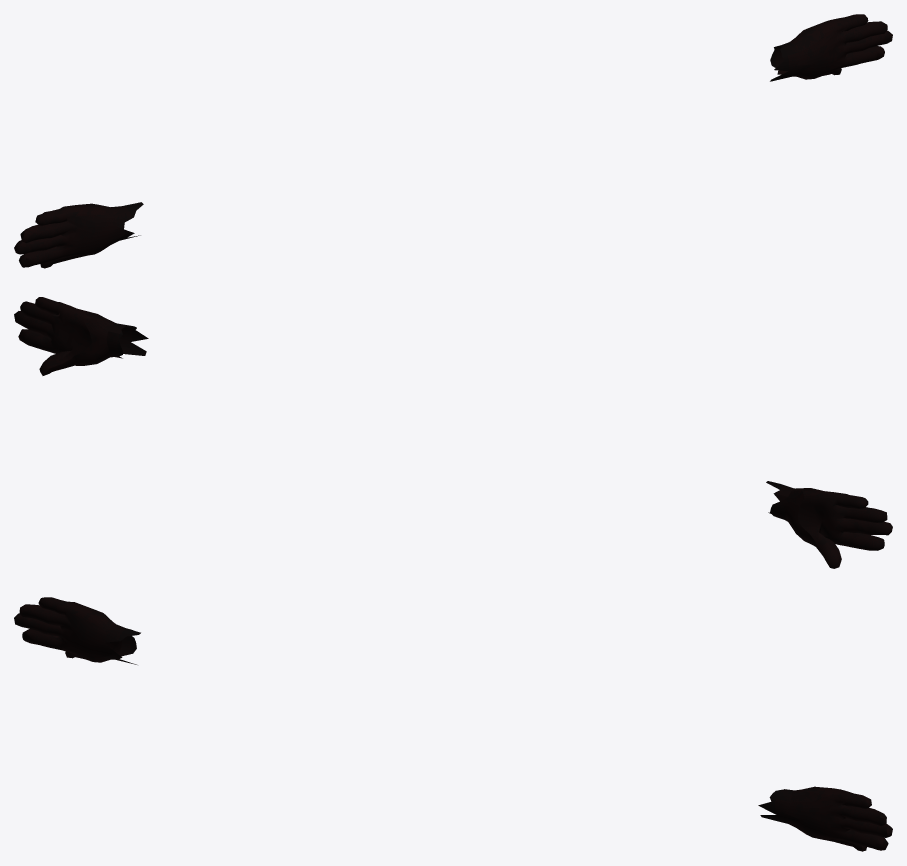
The model's file is work_gloves.glb.
3 views of the same model, one above another, from view 1: azimuth 30°, elevation 25°; view 2: azimuth 150°, elevation 25°; view 3: azimuth 330°, elevation 25° (orthographic).
Visible parts, largest first — view 1: work_gloves_ground; view 2: work_gloves_ground; view 3: work_gloves_ground.
Part boxes in pixels (box(x1,y1,x2,y2)): work_gloves_ground: box(14, 14, 892, 268); work_gloves_ground: box(14, 297, 892, 568); work_gloves_ground: box(14, 597, 892, 851).
Bounding box in the file's own units: 1.89 × 0.1351 × 0.0929.
Materials: 1 (1 with a texture image).
